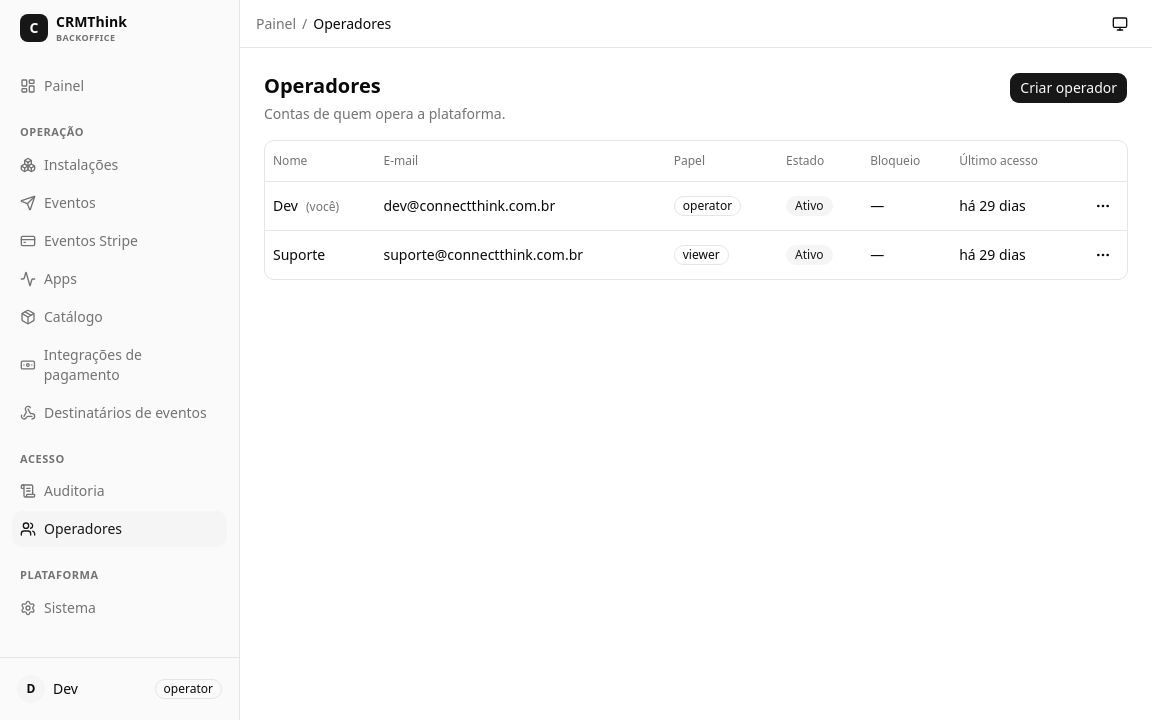
Test: tela Operadores › redefinir acesso: exige o e-mail e o motivo e mostra só a senha provisória, uma vez
This screenshot has width=1152, height=720.
Click the button named "Ações de Suporte": (1103, 254) [1087, 238, 1119, 270]
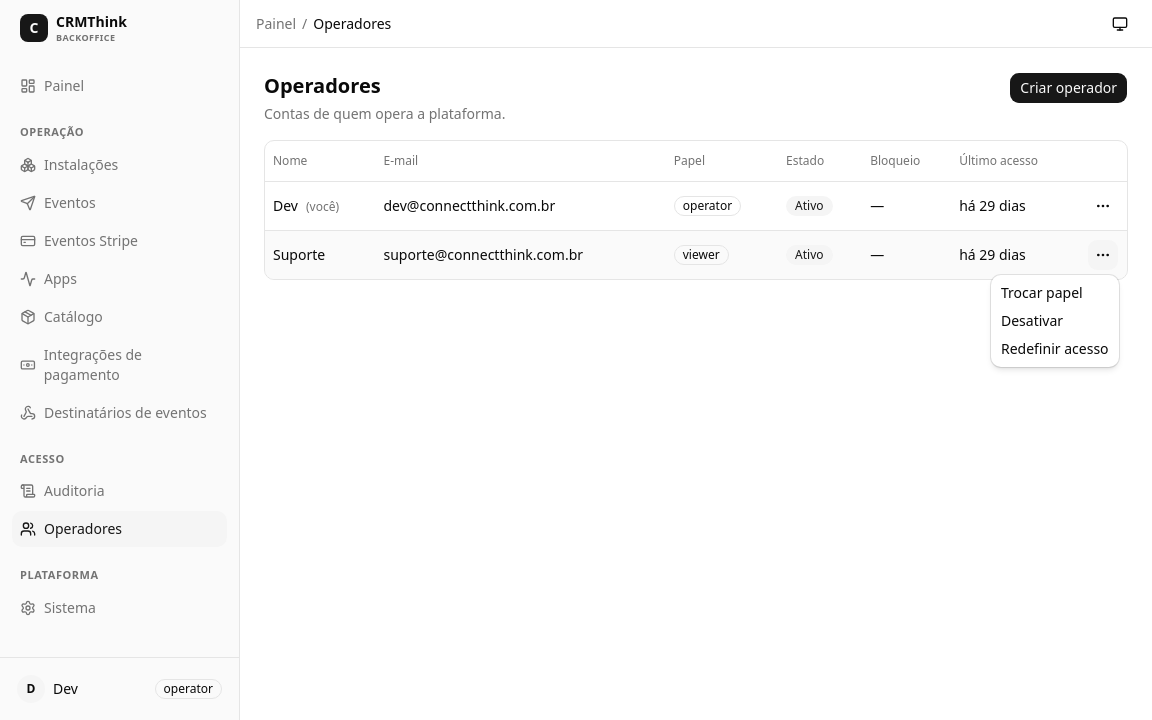
Click the menu item "Redefinir acesso": (1055, 349) [995, 335, 1115, 363]
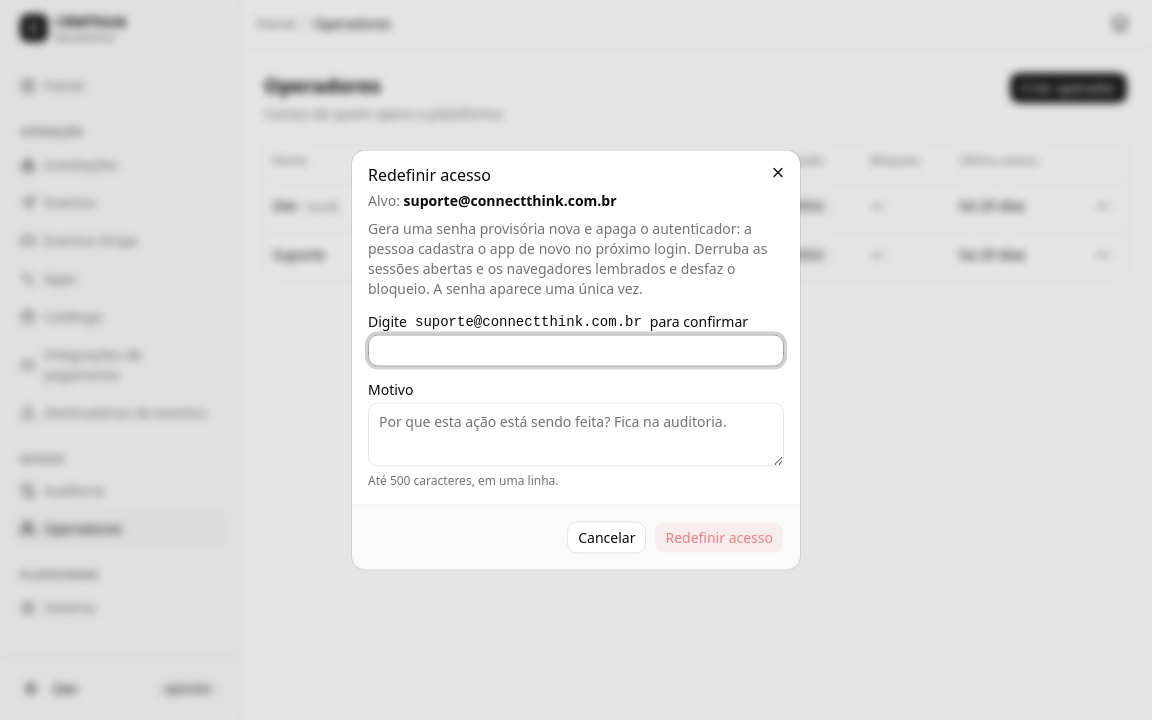
Check: the button "Redefinir acesso" is disabled, box [654, 522, 784, 554]
In the field labelled "Digite suporte@connectthink.com.br para confirmar": (576, 350) [368, 334, 784, 366], type "suporte@connectthink.com.br"
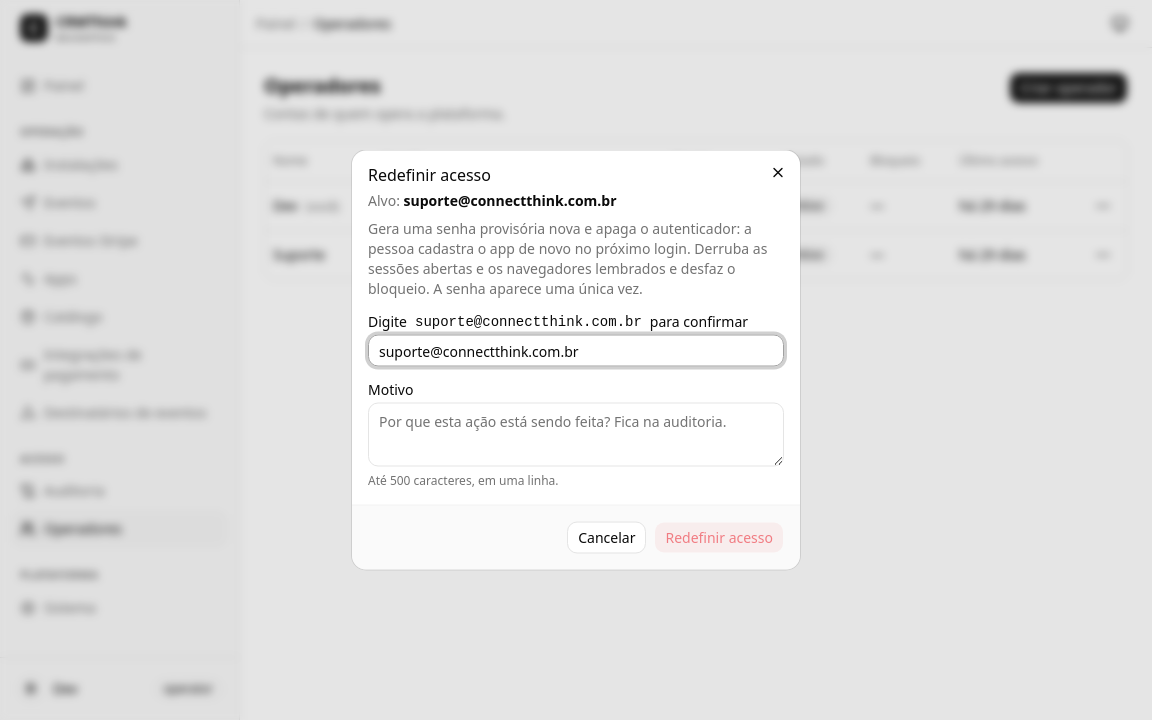
In the text box labelled "Motivo": (576, 434) [368, 402, 784, 466], type "perdeu o celular"
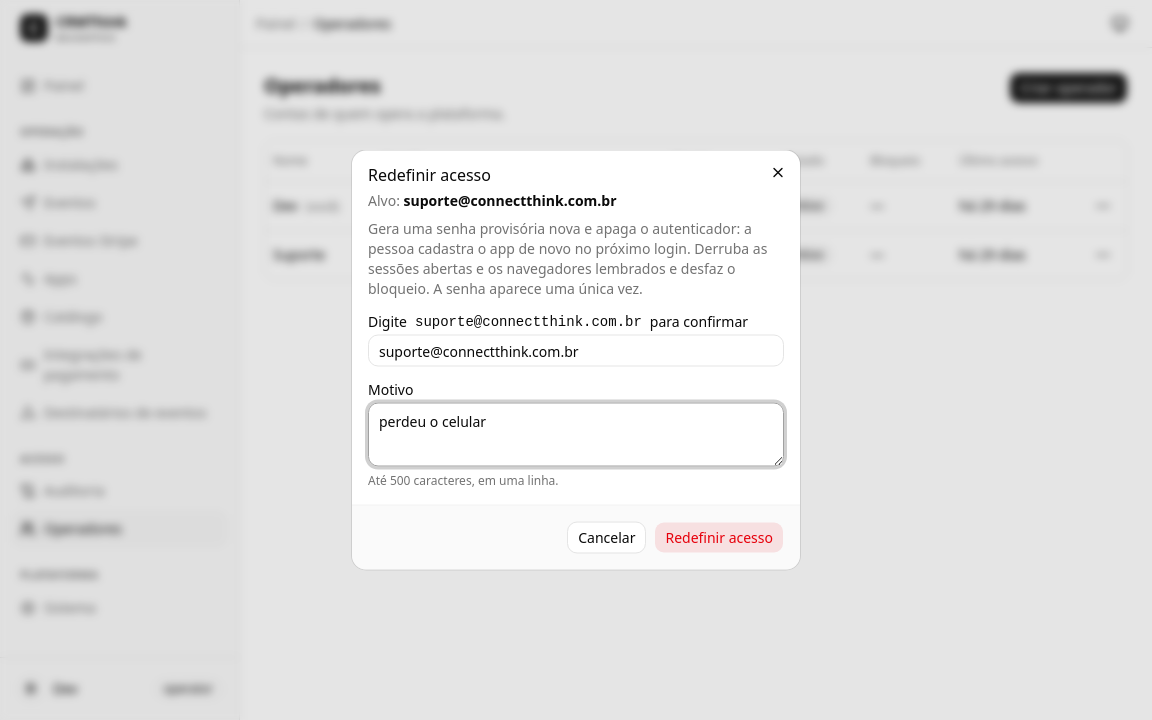
Click the button "Redefinir acesso": (719, 538) [654, 522, 784, 554]
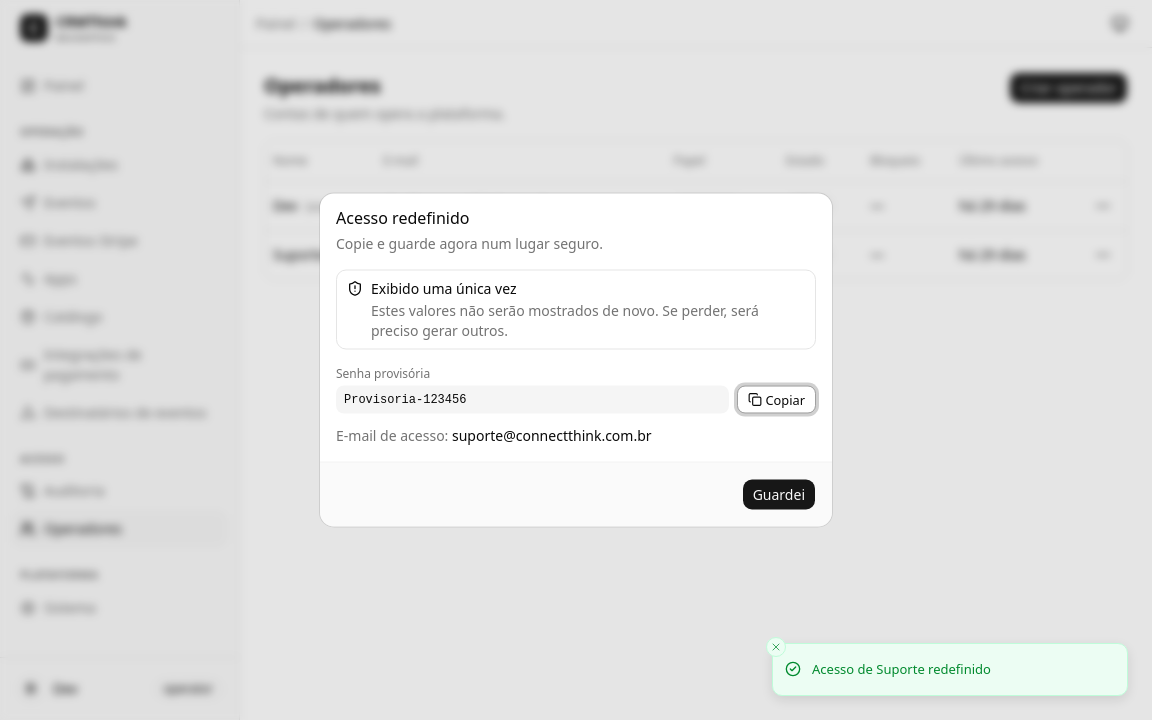
Check: the text "Provisoria-123456" is shown, box [336, 386, 728, 414]
Click the button "Guardei": (779, 494) [742, 478, 816, 510]
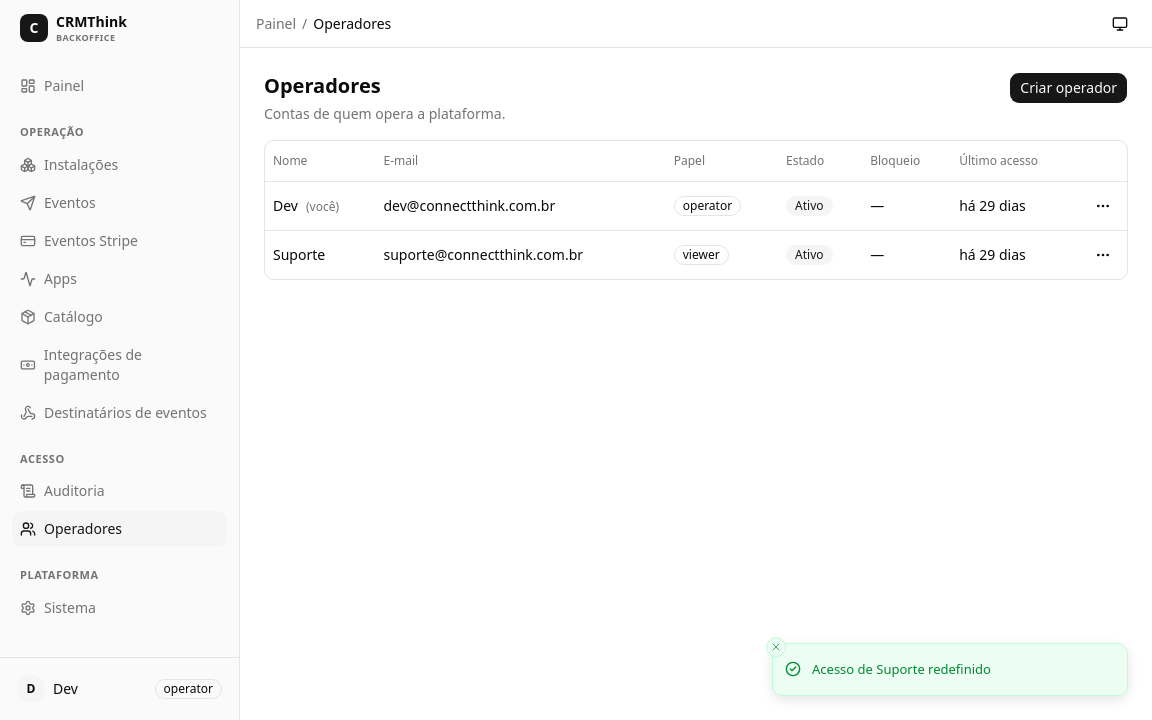
Check: the text "Provisoria-123456" is gone
